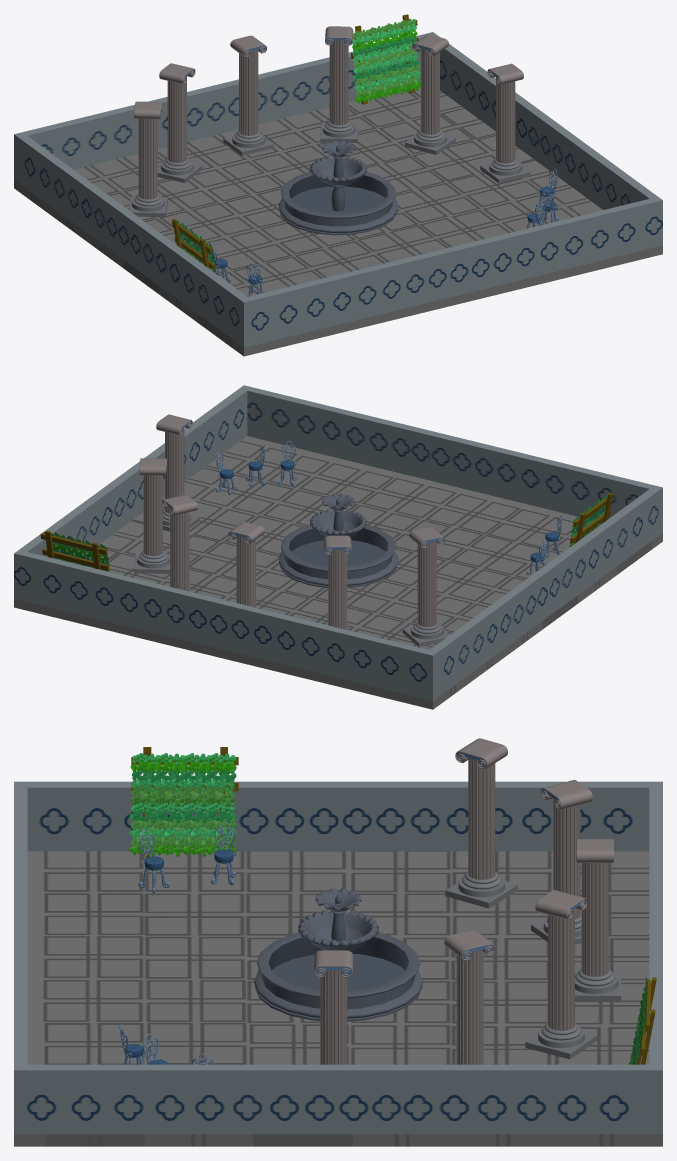
The model's file is stage3.fbx.
3 views of the same model, one above another, from view 1: azimuth 30°, elevation 25°; view 2: azimuth 150°, elevation 25°; view 3: azimuth 270°, elevation 25° (orthographic). The views are drawn at different scales.
Visible parts, largest first — view 1: stage3:polySurface1; view 2: stage3:polySurface1; view 3: stage3:polySurface1.
Boxes of the visible parts, <box> form: stage3:polySurface1: <box>14,14,662,356</box>; stage3:polySurface1: <box>14,385,662,709</box>; stage3:polySurface1: <box>14,738,662,1146</box>.
Bounding box in the file's own units: 49.97 × 12.78 × 47.48.
